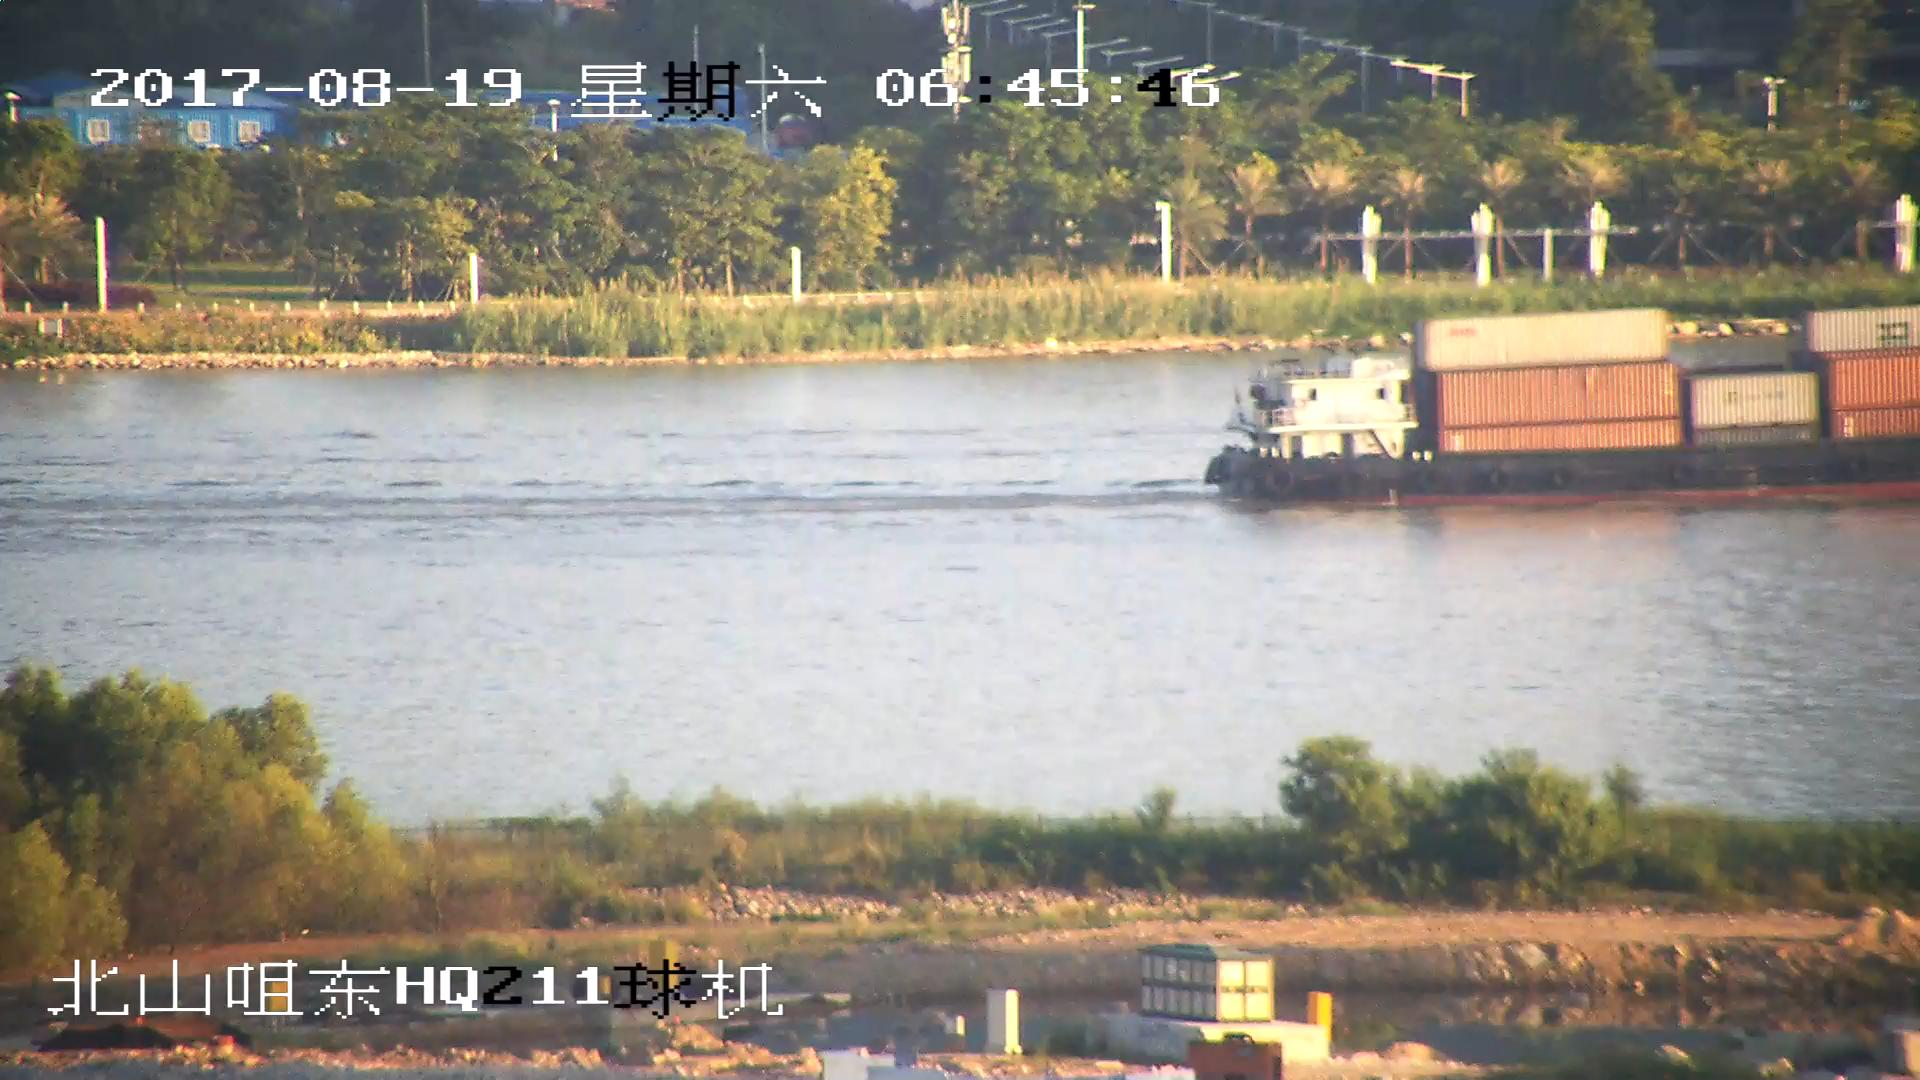container ship: (1199, 303, 1920, 509)
